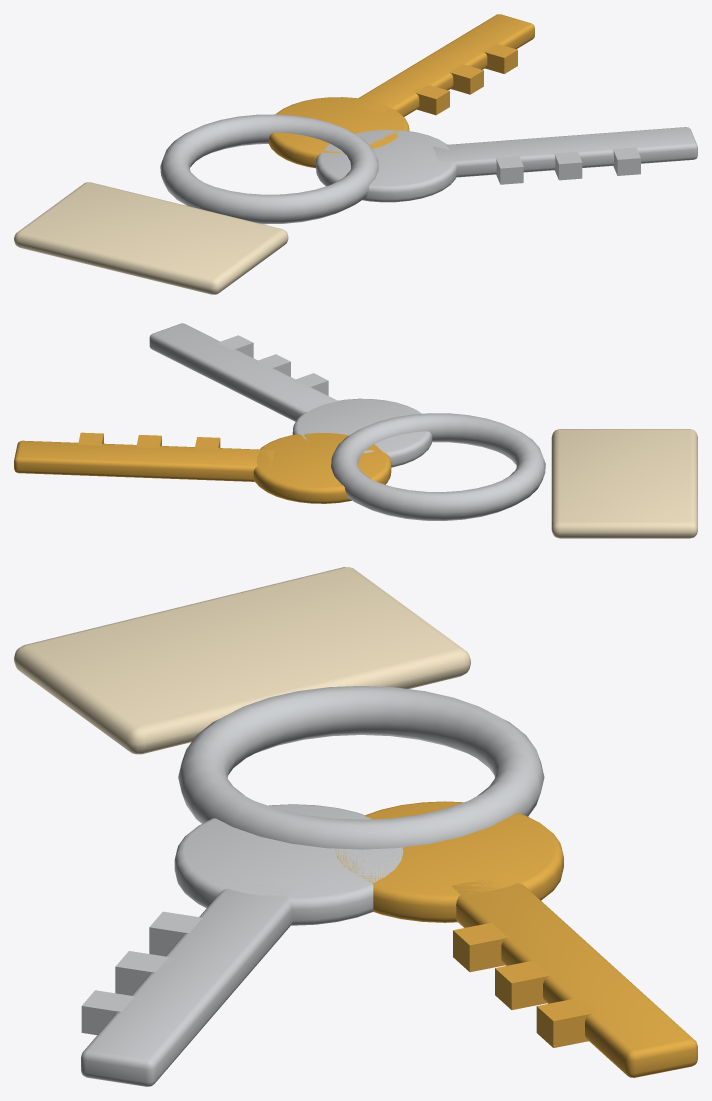
The model's file is keys.glb.
The picture shows the model from 3 angles, top to bottom: view 1: azimuth 30°, elevation 25°; view 2: azimuth 150°, elevation 25°; view 3: azimuth 270°, elevation 25°; orthographic projection. The views are drawn at different scales.
Visible parts, largest first — view 1: keys; view 2: keys; view 3: keys.
Boxes of the visible parts, left/top/right/bottom form: keys: left=14, top=14, right=697, bottom=294; keys: left=14, top=323, right=697, bottom=538; keys: left=14, top=567, right=697, bottom=1086.
Size of the model in its own units: 0.1196 by 0.00488 by 0.0691.
